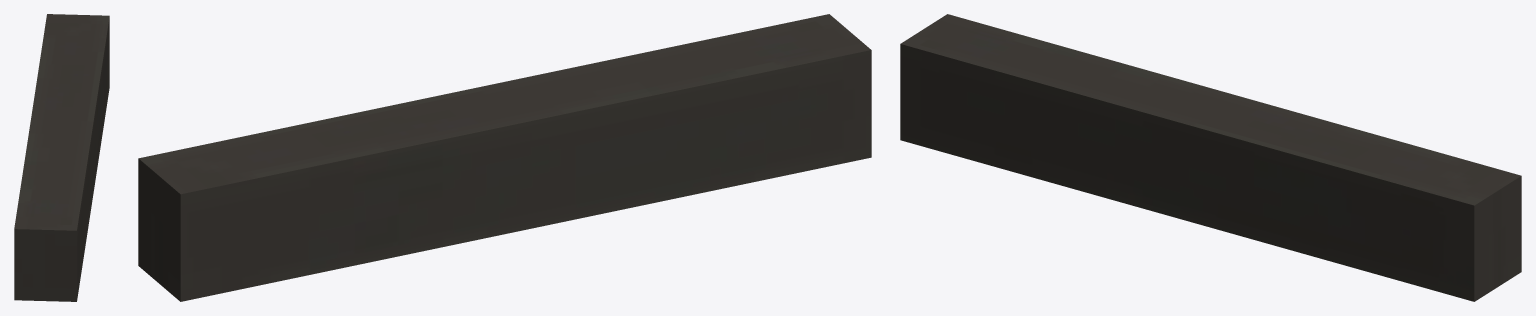
Rendered from frame__front_upright_neg.glb.
3 views of the same model, side by side, from view 1: azimuth 30°, elevation 25°; view 2: azimuth 150°, elevation 25°; view 3: azimuth 270°, elevation 25° (orthographic). The views are drawn at different scales.
Parts seen in each view (by area): view 1: world; view 2: world; view 3: world.
Boxes of the visible parts, x1,y1,x2,y2 form: world: [14, 14, 109, 301]; world: [138, 14, 871, 301]; world: [900, 14, 1521, 301].
Bounding box in the file's own units: 0.2133 × 0.05 × 0.2922.
1 material, 1 textured.
